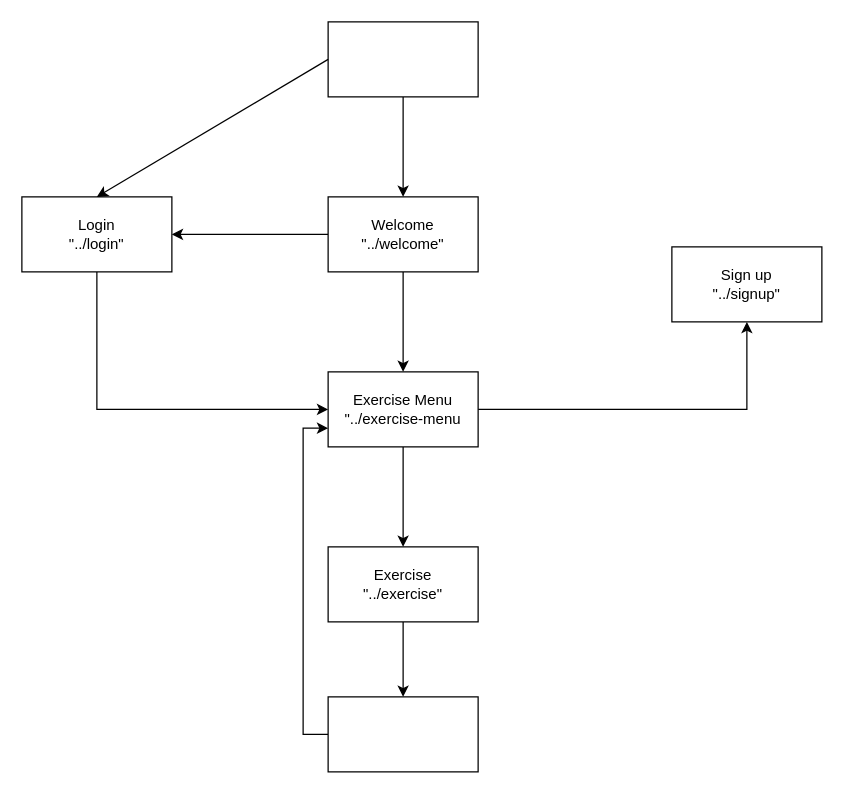
This 844x794 diagram has some shape labels left out. Here are the shapes that lost their labels. From the top down, the centre of each, then its label:
the point at 402,59: Showcase "../showcase"
the point at 402,734: Result Page "../exercise/result"
